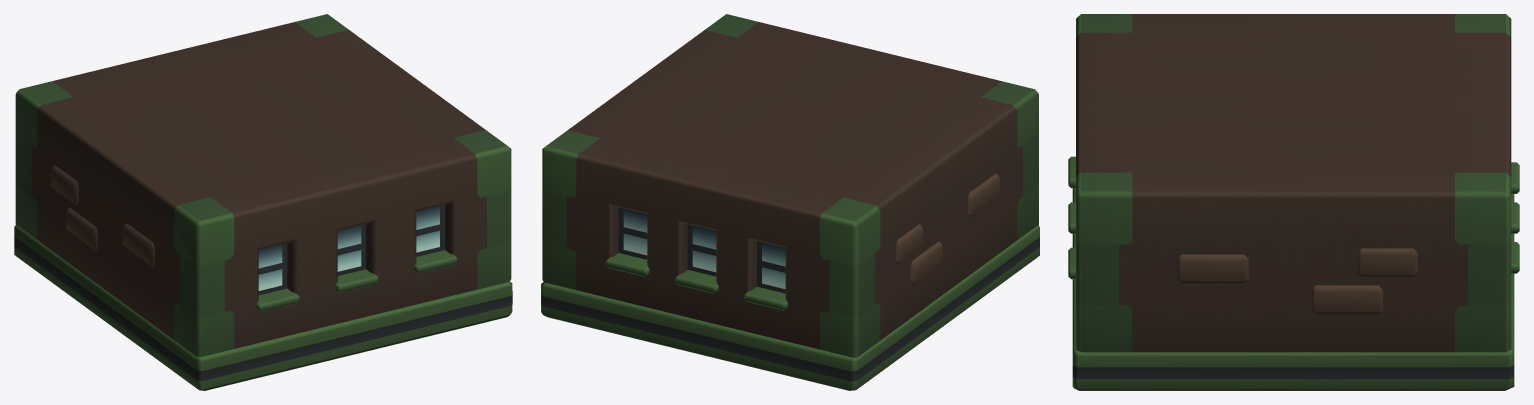
File: appartment_type1_x4_element_brown.fbx
The picture shows the model from 3 angles, left to right: view 1: azimuth 30°, elevation 25°; view 2: azimuth 150°, elevation 25°; view 3: azimuth 270°, elevation 25°; orthographic projection. The views are drawn at different scales.
Visible parts, largest first — view 1: appartment_type1_x4_element_brown; view 2: appartment_type1_x4_element_brown; view 3: appartment_type1_x4_element_brown.
Part boxes in pixels (box(x1,y1,x2,y2)): appartment_type1_x4_element_brown: box(14, 14, 512, 390); appartment_type1_x4_element_brown: box(541, 14, 1039, 390); appartment_type1_x4_element_brown: box(1068, 14, 1519, 390).
Bounding box in the file's own units: 819 × 409 × 839.
